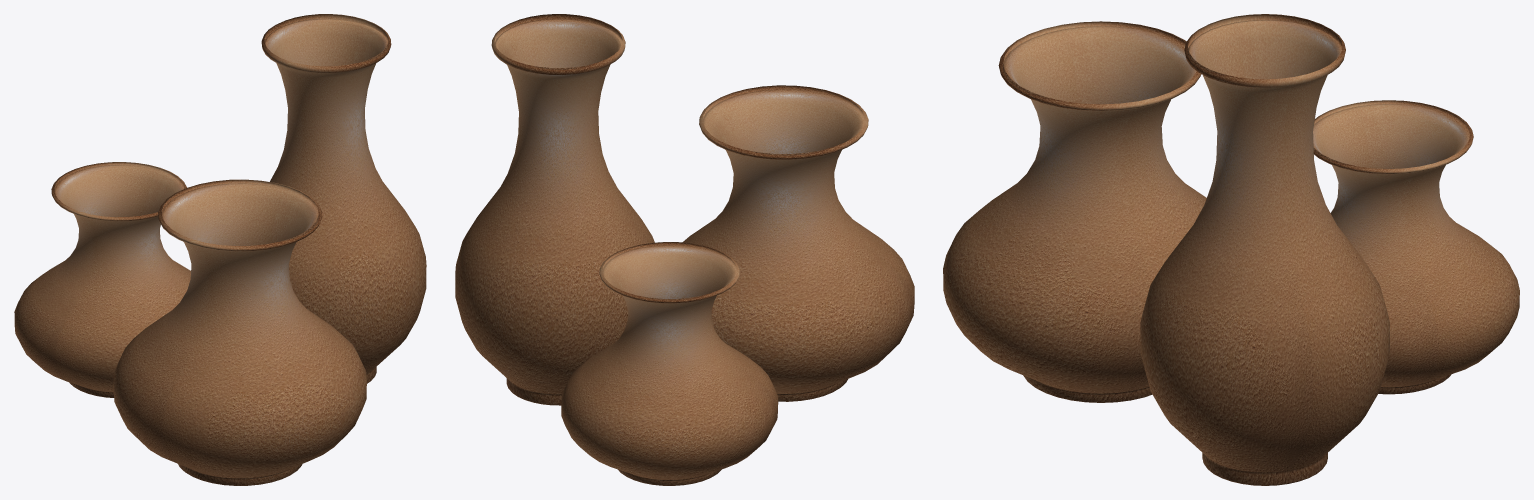
Rendered from vase.glb.
3 renders of one model, left to right at view 1: azimuth 30°, elevation 25°; view 2: azimuth 150°, elevation 25°; view 3: azimuth 270°, elevation 25°, orthographic. The views are drawn at different scales.
Parts seen in each view (by area): view 1: Plane, Plane.002, Plane.001; view 2: Plane.002, Plane, Plane.001; view 3: Plane.002, Plane, Plane.001.
Part boxes in pixels (x1,y1,x2,y2): Plane: (113, 179, 366, 485); Plane.002: (261, 14, 426, 383); Plane.001: (14, 162, 190, 397); Plane.002: (455, 14, 654, 405); Plane: (682, 85, 914, 401); Plane.001: (561, 242, 778, 485); Plane.002: (1140, 14, 1389, 485); Plane: (943, 21, 1206, 402); Plane.001: (1313, 100, 1519, 394).
Bounding box in the file's own units: 1.56 × 1.43 × 1.79.
1 material, 1 textured.
